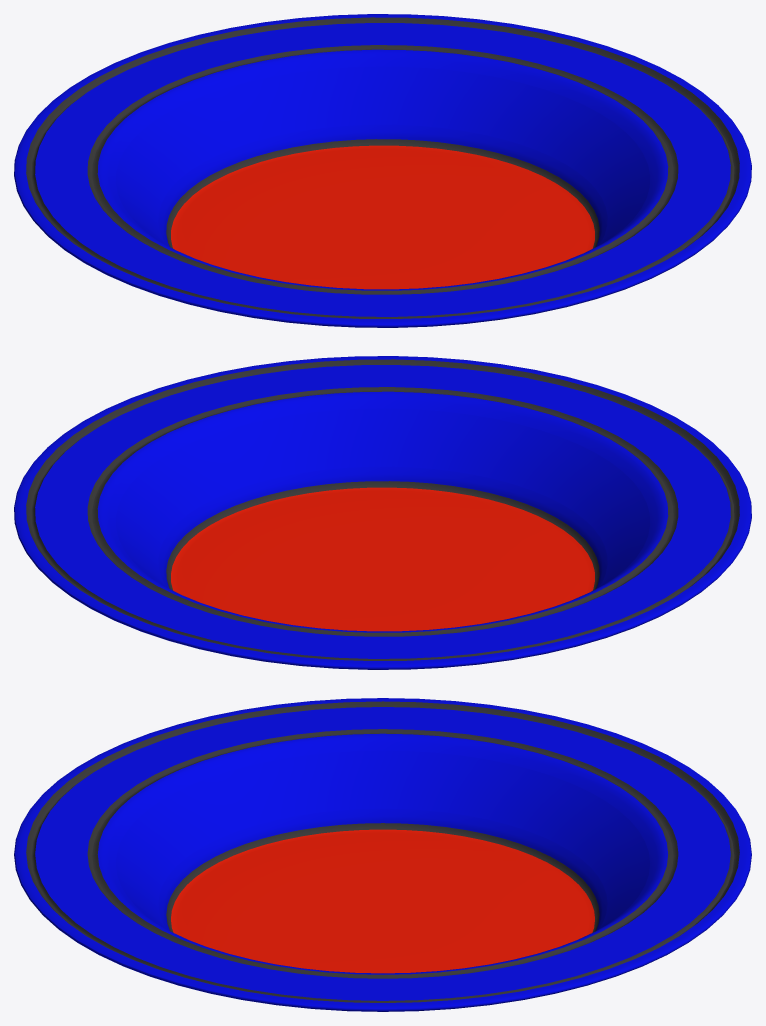
The model's file is TitheBowl.fbx.
3 renders of one model, top to bottom at view 1: azimuth 30°, elevation 25°; view 2: azimuth 150°, elevation 25°; view 3: azimuth 270°, elevation 25°, orthographic.
Visible parts, largest first — view 1: Circle; view 2: Circle; view 3: Circle.
Boxes of the visible parts, x1,y1,x2,y2 form: Circle: [14, 14, 751, 327]; Circle: [14, 356, 751, 669]; Circle: [14, 698, 751, 1011].
Size of the model in its own units: 349 by 35.11 by 349.
